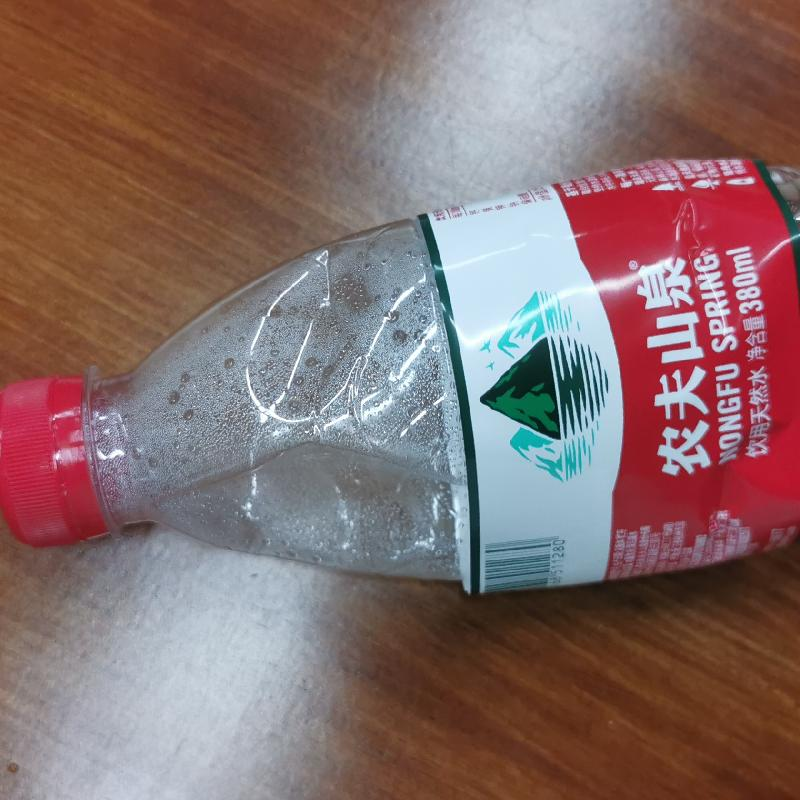bottles: (1, 155, 799, 596)
